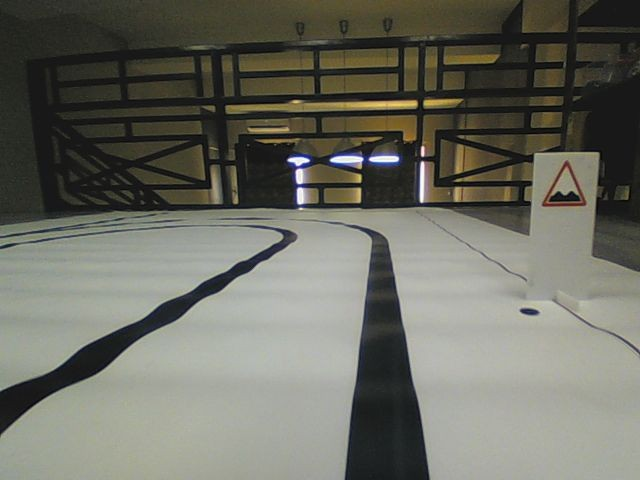Nerov: (541, 159, 588, 208)
